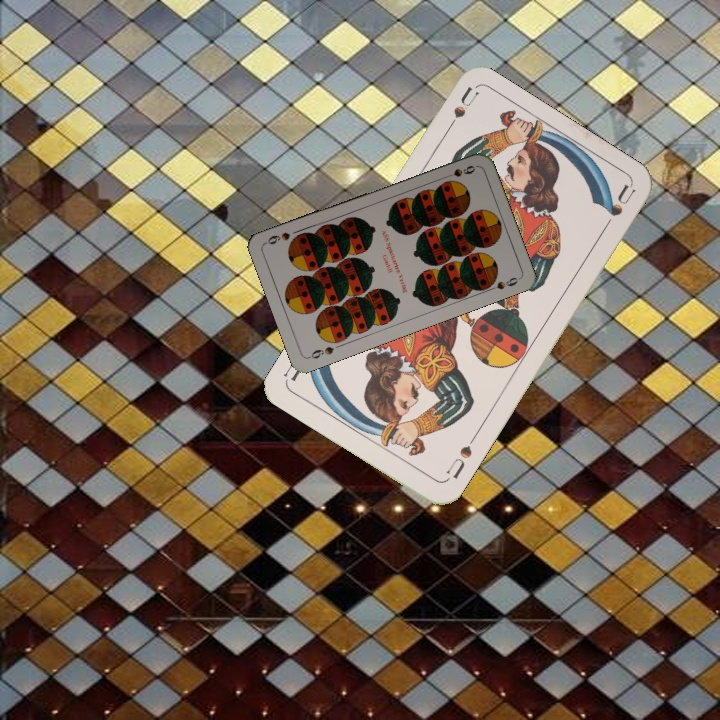S9: (439, 161, 478, 182), (304, 342, 336, 361)
SU: (439, 84, 481, 139), (442, 431, 479, 481)
